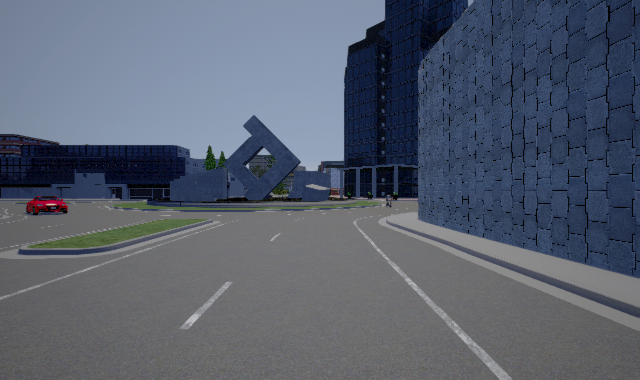bike: (382, 195, 394, 210)
vehicle: (26, 196, 68, 215)
